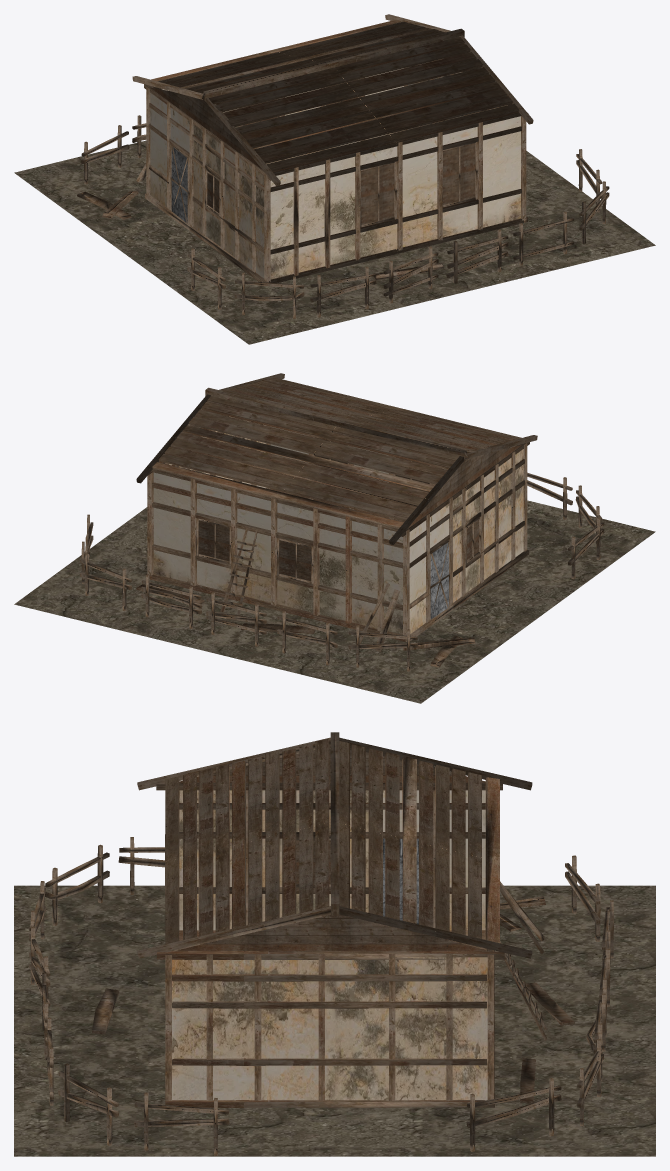
3 views of the same model, one above another, from view 1: azimuth 30°, elevation 25°; view 2: azimuth 150°, elevation 25°; view 3: azimuth 270°, elevation 25° (orthographic). The views are drawn at different scales.
Parts seen in each view (by area): view 1: Old Medieval House; view 2: Old Medieval House; view 3: Old Medieval House.
Part boxes in pixels (x1=…): Old Medieval House: x1=14, y1=14, x2=655, y2=344; Old Medieval House: x1=14, y1=373, x2=655, y2=703; Old Medieval House: x1=14, y1=732, x2=655, y2=1156.
Bounding box in the file's own units: 12 × 4.16 × 11.96.
4 materials, 4 textured.
